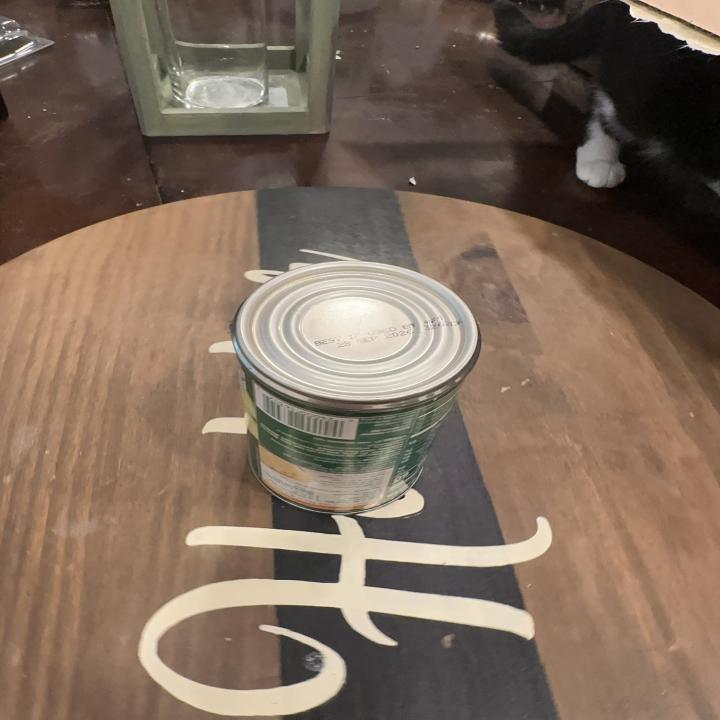Canned-Corn: (216, 256, 485, 532)
